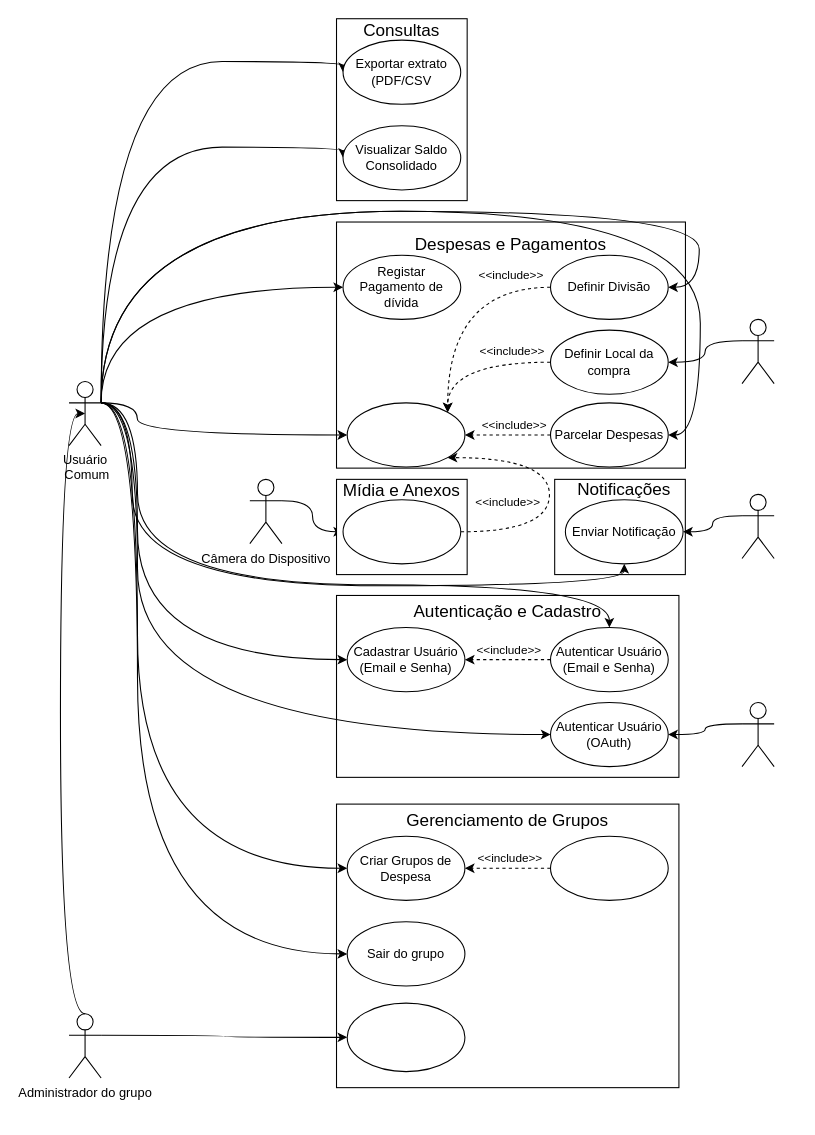
Some shapes in this 815 by 1135 pixel diagram are drawn without their labels. Here are the shapes that lost their labels. From the top down, the box of each, then its label:
(741, 318, 774, 384): Serviço GPS
(346, 402, 465, 467): Registrar Despesas
(342, 499, 461, 564): Tirar Fotos
(741, 493, 774, 559): Serviço de Notificações
(741, 701, 774, 767): Serviço de Autenticação
(549, 835, 668, 900): Convidar membros
(346, 1002, 465, 1072): Gerenciar Membros (Administrador)
